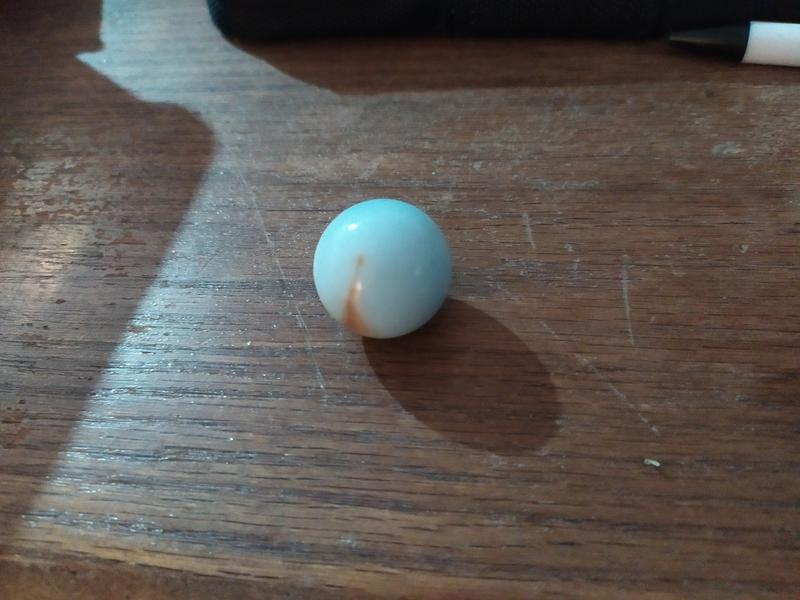Warning: (310, 194, 457, 343)
